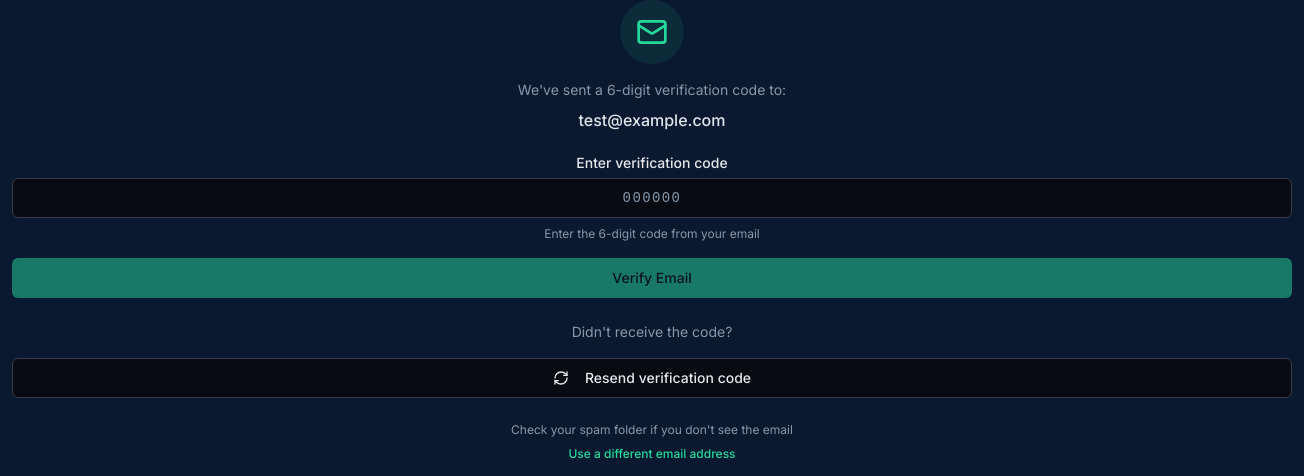
Test: EmailVerificationForm › Code Input Validation › should disable verify button when code is incomplete
Expected: the button "Verify Email" is disabled, [12, 258, 1292, 298]
In the field labelled "Enter verification code": {"x": 652, "y": 198} [12, 178, 1292, 218], type "12345"
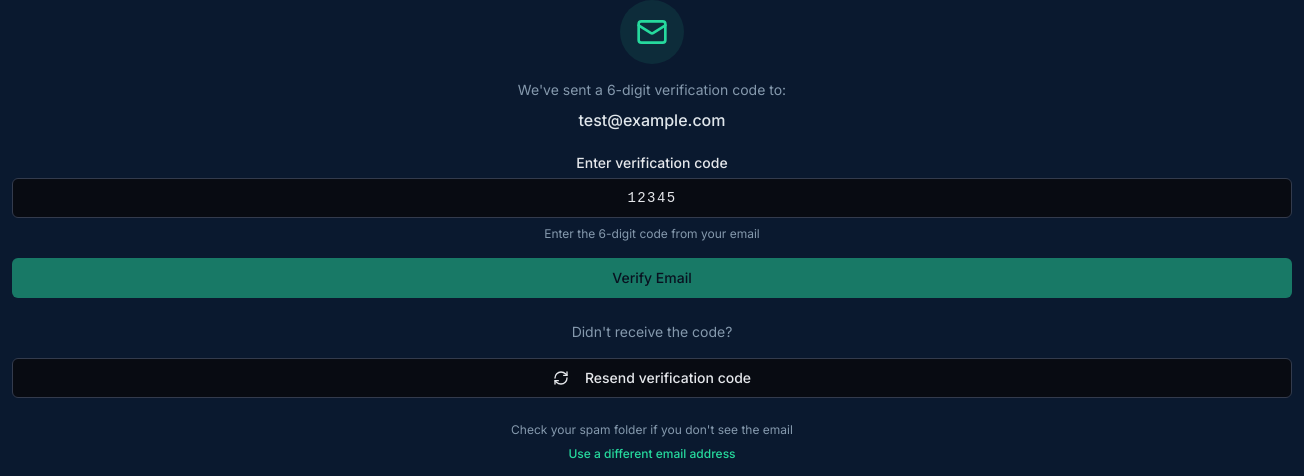
Expected: the button "Verify Email" is disabled, [12, 258, 1292, 298]
Replace the text in the field labelled "Enter verification code" with "123456": {"x": 652, "y": 198} [12, 178, 1292, 218]
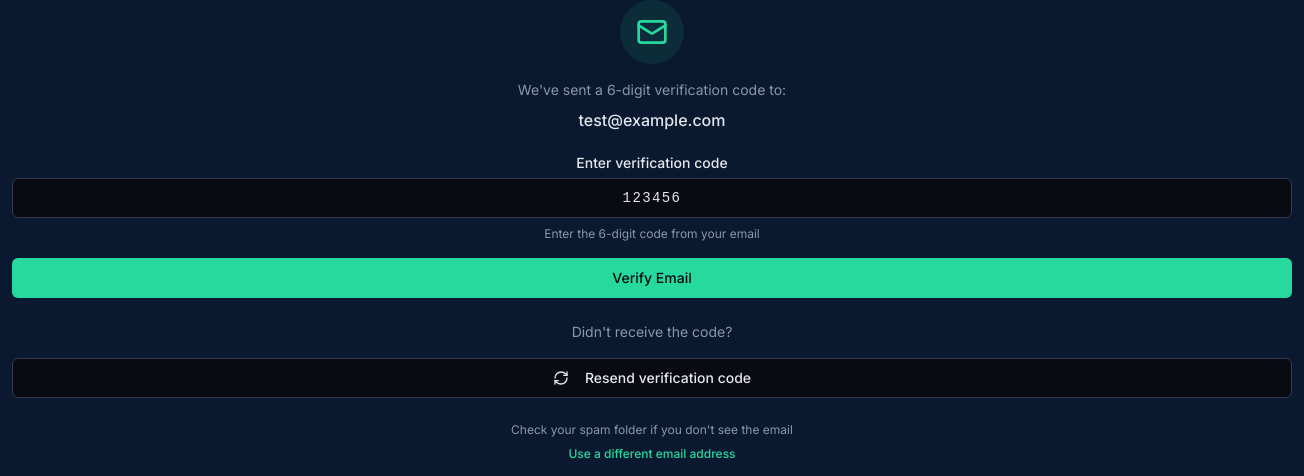
Expected: the button "Verify Email" is enabled, [12, 258, 1292, 298]
